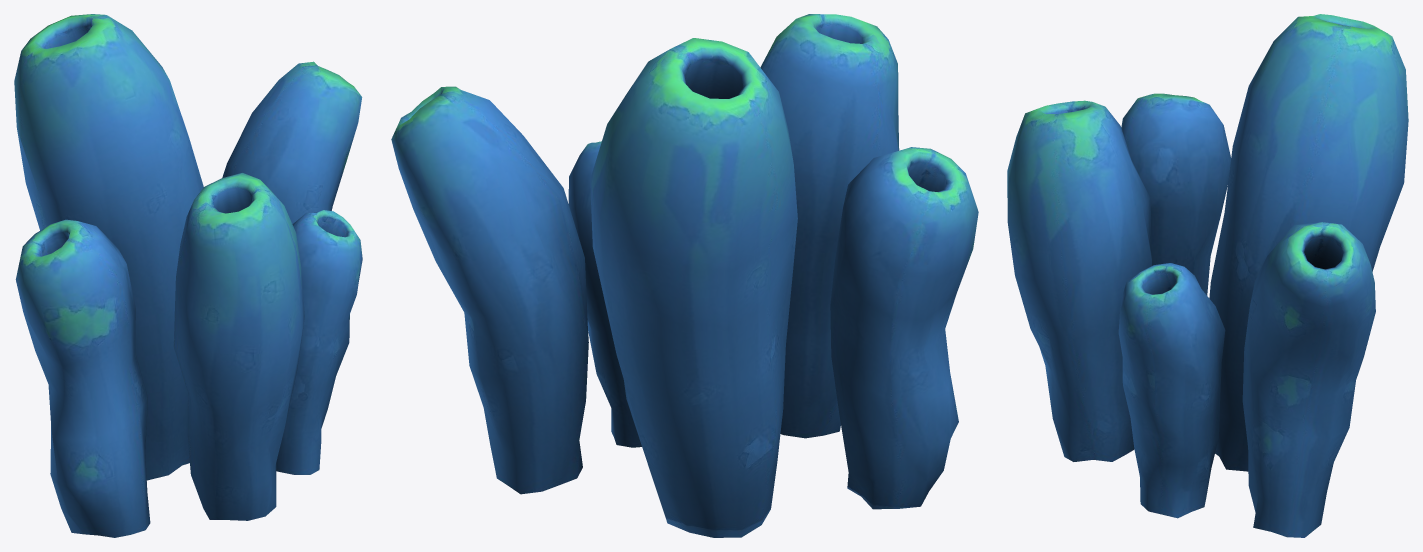
File: 01-BVThick.fbx
3 views of the same model, side by side, from view 1: azimuth 30°, elevation 25°; view 2: azimuth 150°, elevation 25°; view 3: azimuth 270°, elevation 25° (orthographic). The views are drawn at different scales.
Visible parts, largest first — view 1: 01-BVThick_LOD00; view 2: 01-BVThick_LOD00; view 3: 01-BVThick_LOD00.
Boxes of the visible parts, left/top/right/bottom form: 01-BVThick_LOD00: left=14, top=14, right=362, bottom=537; 01-BVThick_LOD00: left=391, top=14, right=978, bottom=537; 01-BVThick_LOD00: left=1007, top=14, right=1408, bottom=537.
Size of what is drawn, in the model's own units: 78.13 by 78.72 by 65.41.
